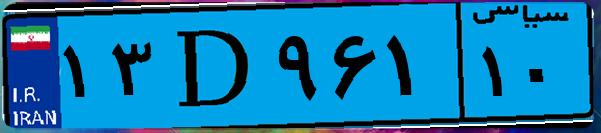0: (525, 38, 570, 115)
1: (385, 28, 445, 110), (57, 26, 110, 100), (475, 38, 525, 113)
3: (110, 28, 158, 98)
6: (330, 28, 385, 110)
9: (270, 28, 330, 110)
D: (158, 12, 270, 120)
